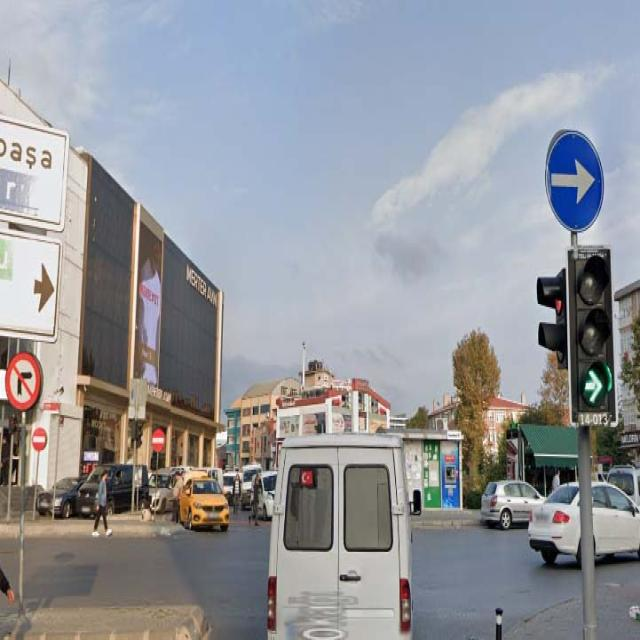girisyok: (32, 427, 46, 452), (152, 428, 166, 452)
sag: (546, 130, 604, 232)
sagadonulmez: (6, 352, 40, 410)
yesil: (565, 246, 617, 429)
